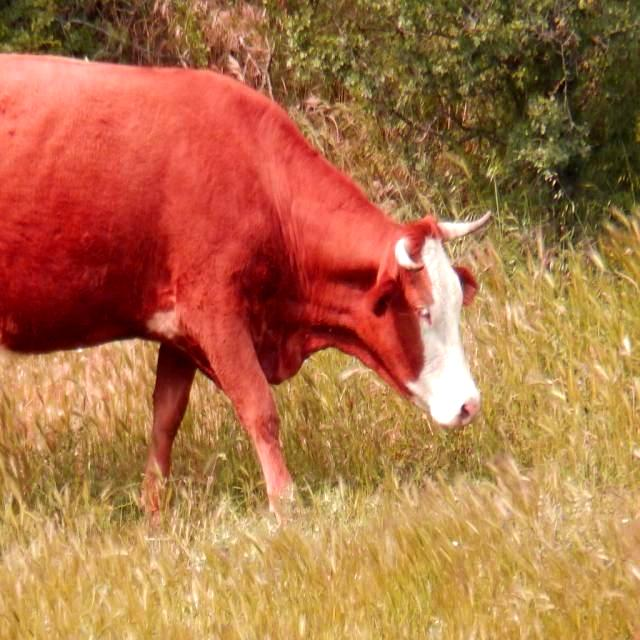COW: (0, 55, 488, 507)
